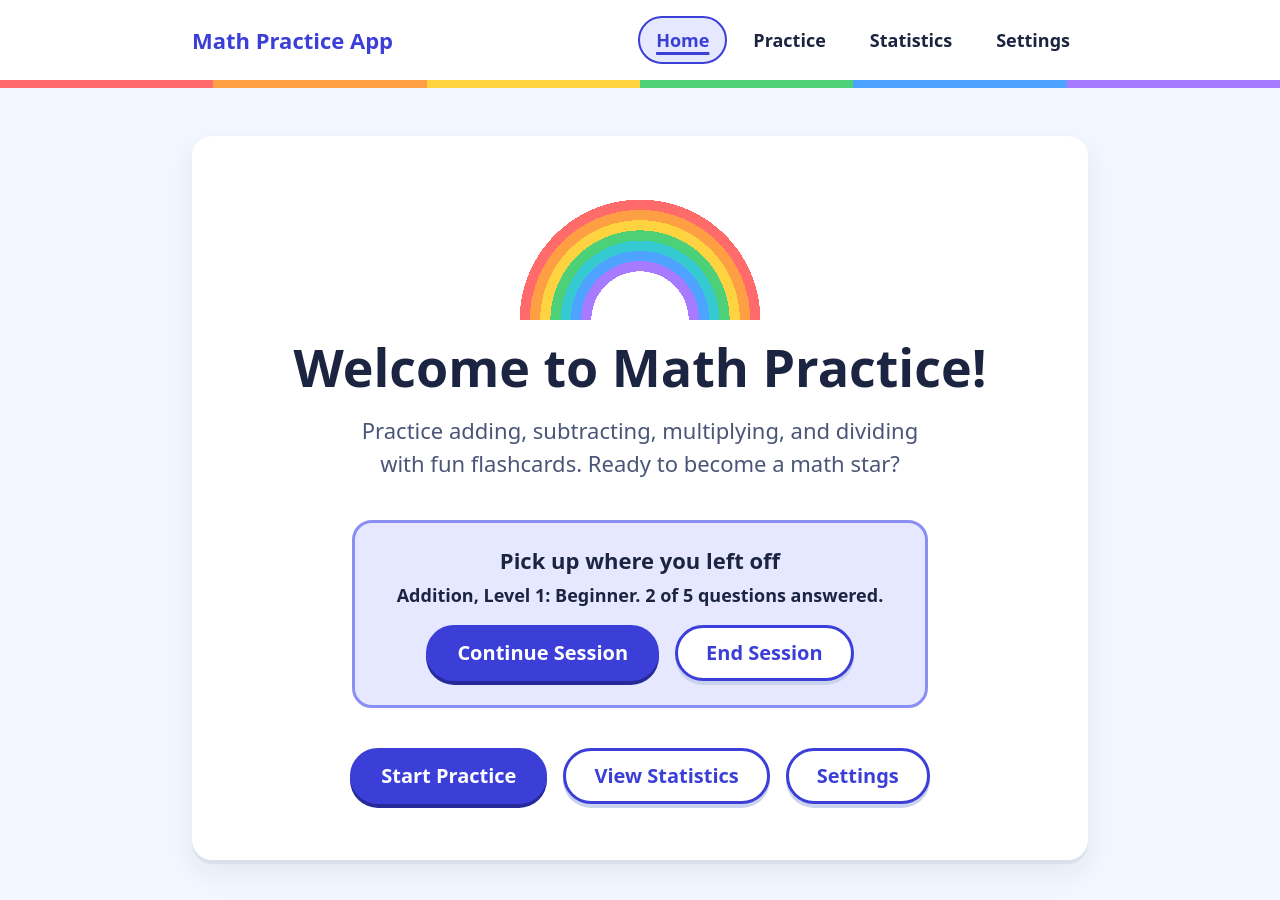
Test case: ResumeSession on the home page › End Session › asks first, when there are answers to keep
Click the button "End Session" at [764, 653], box [675, 625, 854, 681]
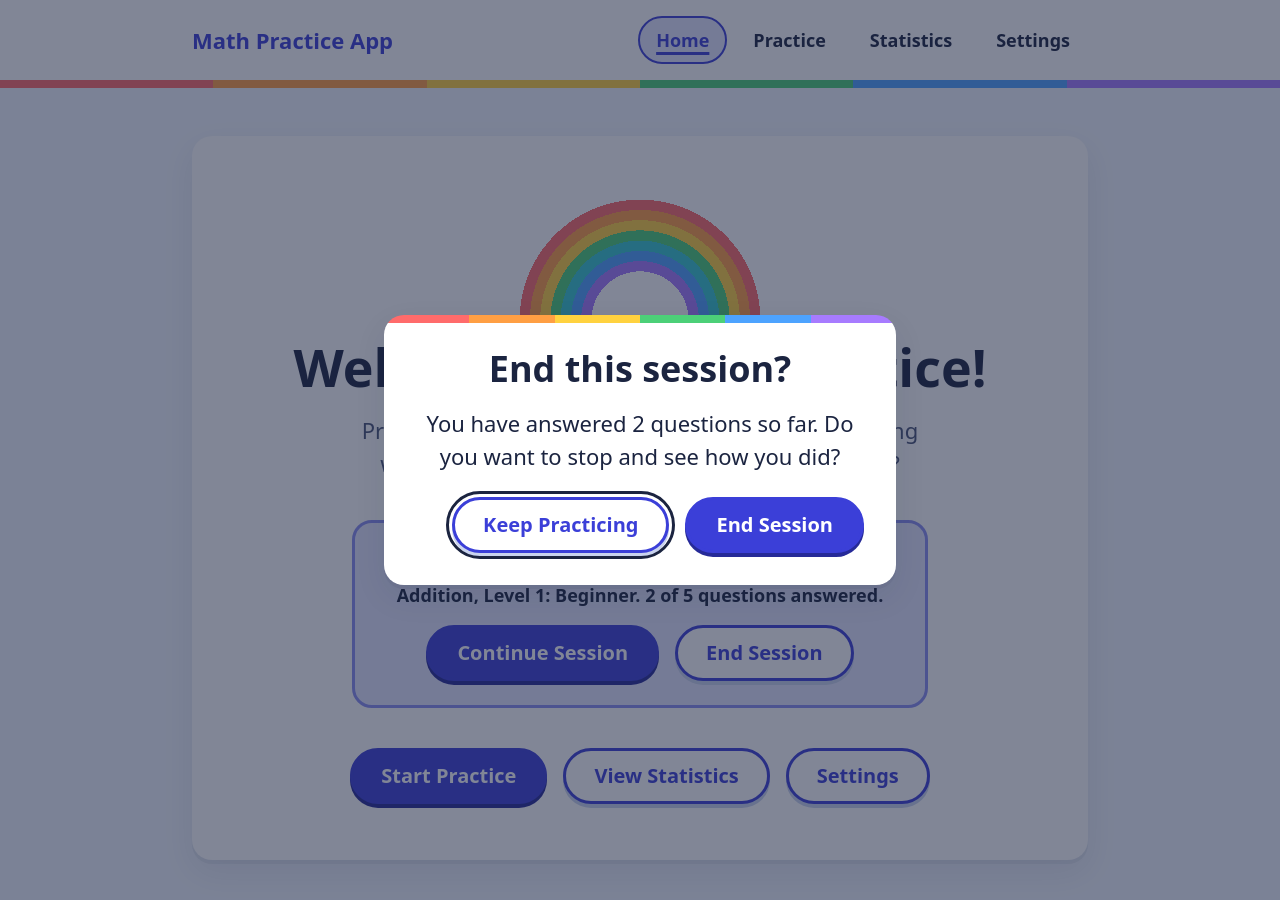
Expected: the dialog "End this session?" shows "You have answered 2 questions so far.", [426, 408, 853, 471]
